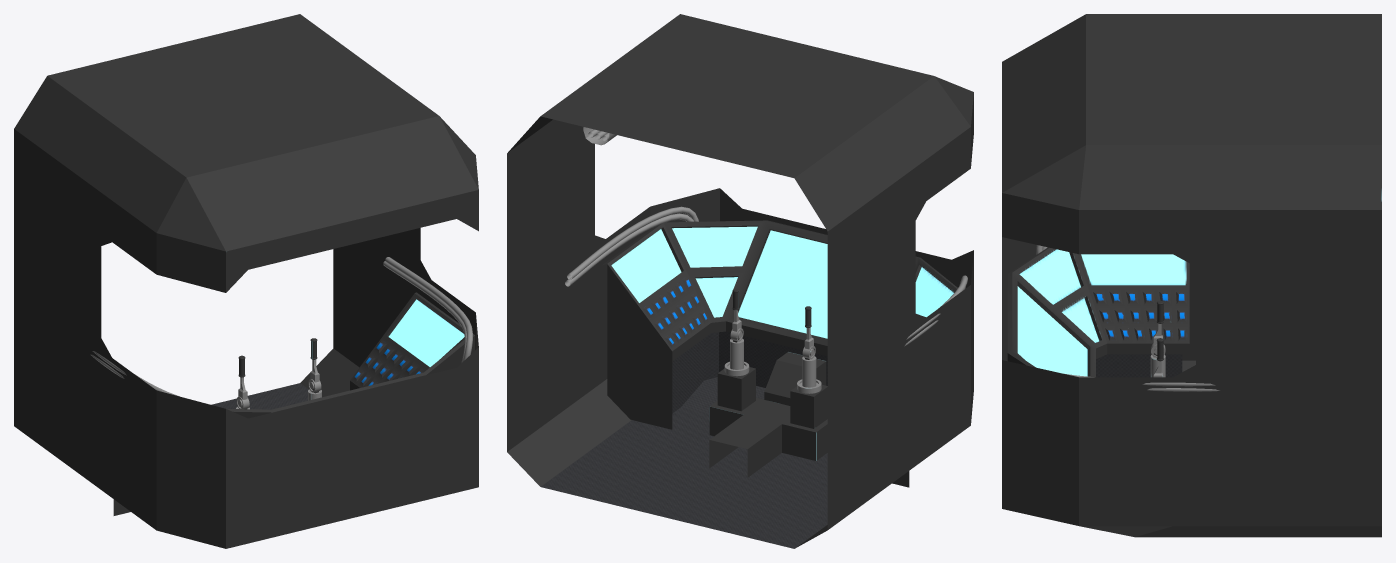
The model's file is Cockpit 1.fbx.
3 views of the same model, side by side, from view 1: azimuth 30°, elevation 25°; view 2: azimuth 150°, elevation 25°; view 3: azimuth 270°, elevation 25° (orthographic). The views are drawn at different scales.
Parts seen in each view (by area): view 1: Cube.003; view 2: Cube.003; view 3: Cube.003.
Boxes of the visible parts, <box> form: Cube.003: <box>14,14,478,548</box>; Cube.003: <box>507,14,973,548</box>; Cube.003: <box>1002,14,1381,537</box>.
Bounding box in the file's own units: 207 × 229 × 200.
Materials: 1 (1 with a texture image).
